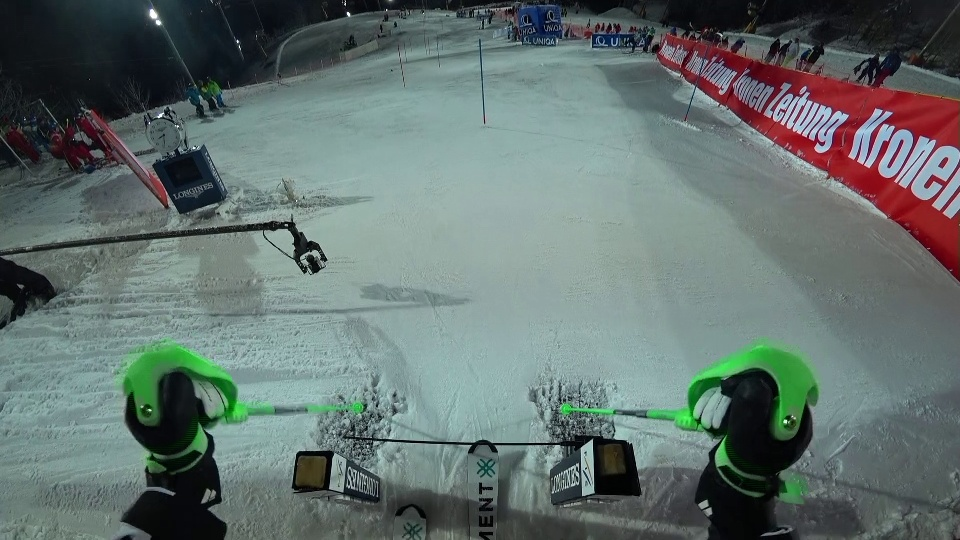kronenzeitung: (843, 110, 959, 243), (726, 61, 851, 156), (665, 38, 739, 98)
longines: (173, 182, 217, 202)
uniqa: (517, 9, 561, 41), (594, 34, 650, 51)
